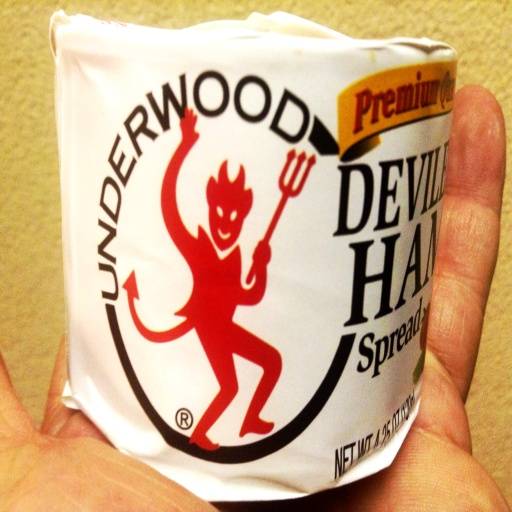hand: (0, 81, 511, 511), (175, 104, 202, 142), (252, 239, 270, 266)
